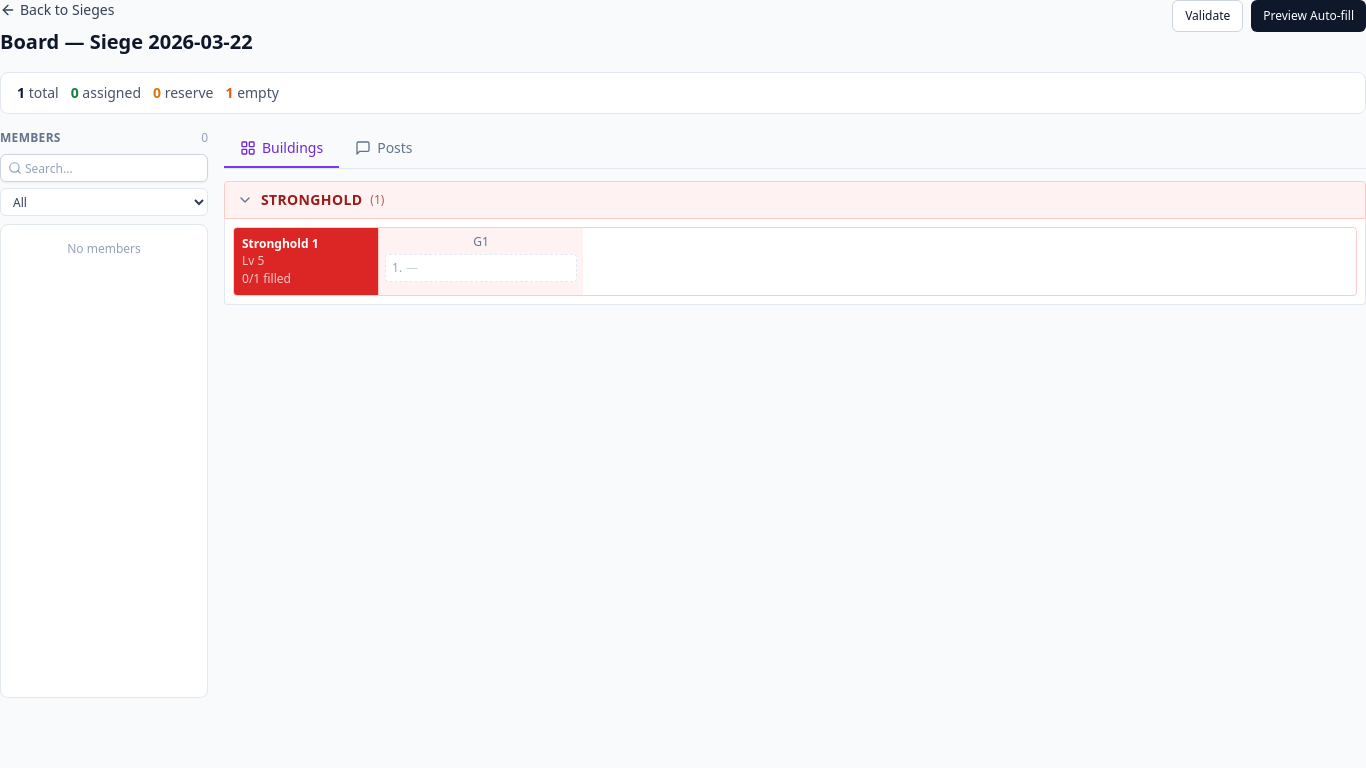
Test: BoardPage — validation dialog › renders warning-severity rows with yellow badge when validate returns warnings
The width and height of the screenshot is (1366, 768).
Click the button "Validate" at (1208, 16), box [1172,0,1243,32]
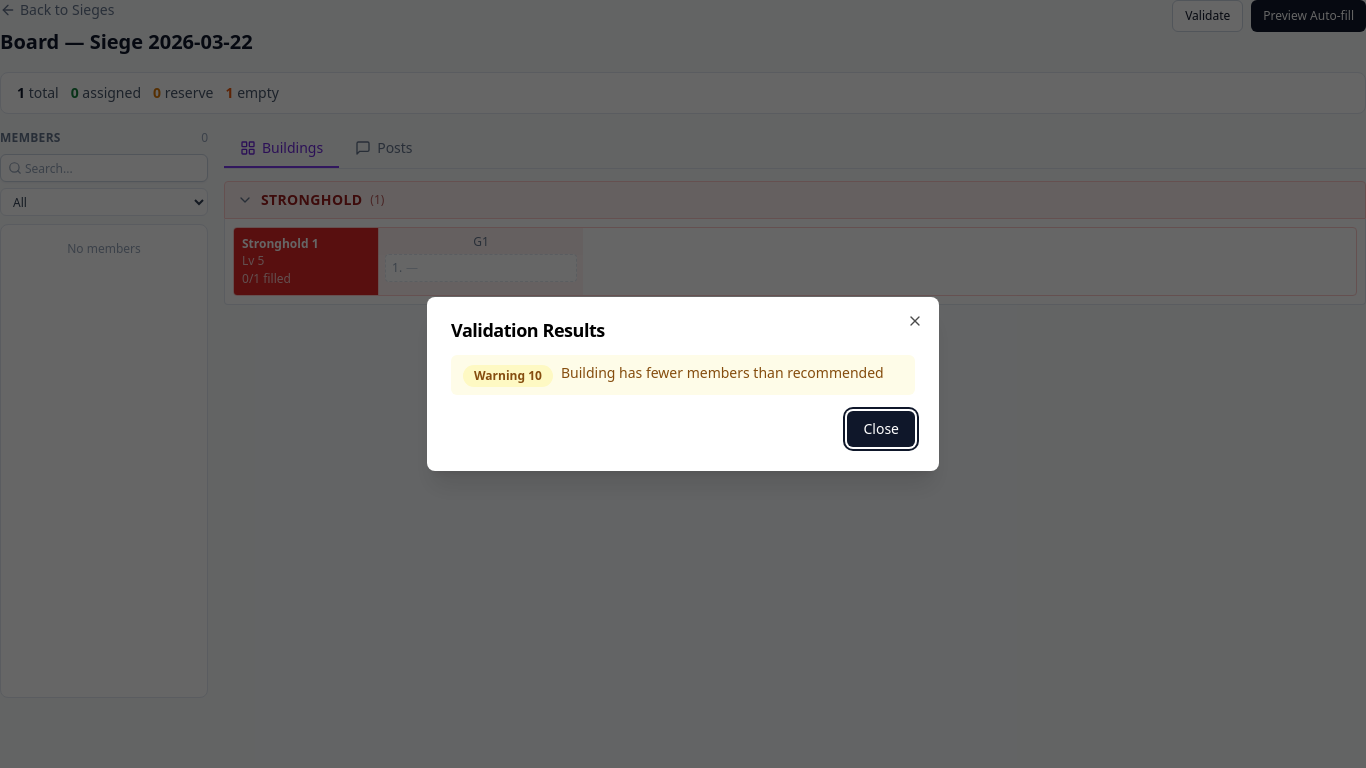
Check: the dialog is shown, box [427,297,939,471]
Check: the text "Warning 10" is shown, box [463,365,553,387]
Check: the text "Building has fewer members than recommended" is shown, box [561,363,884,383]
